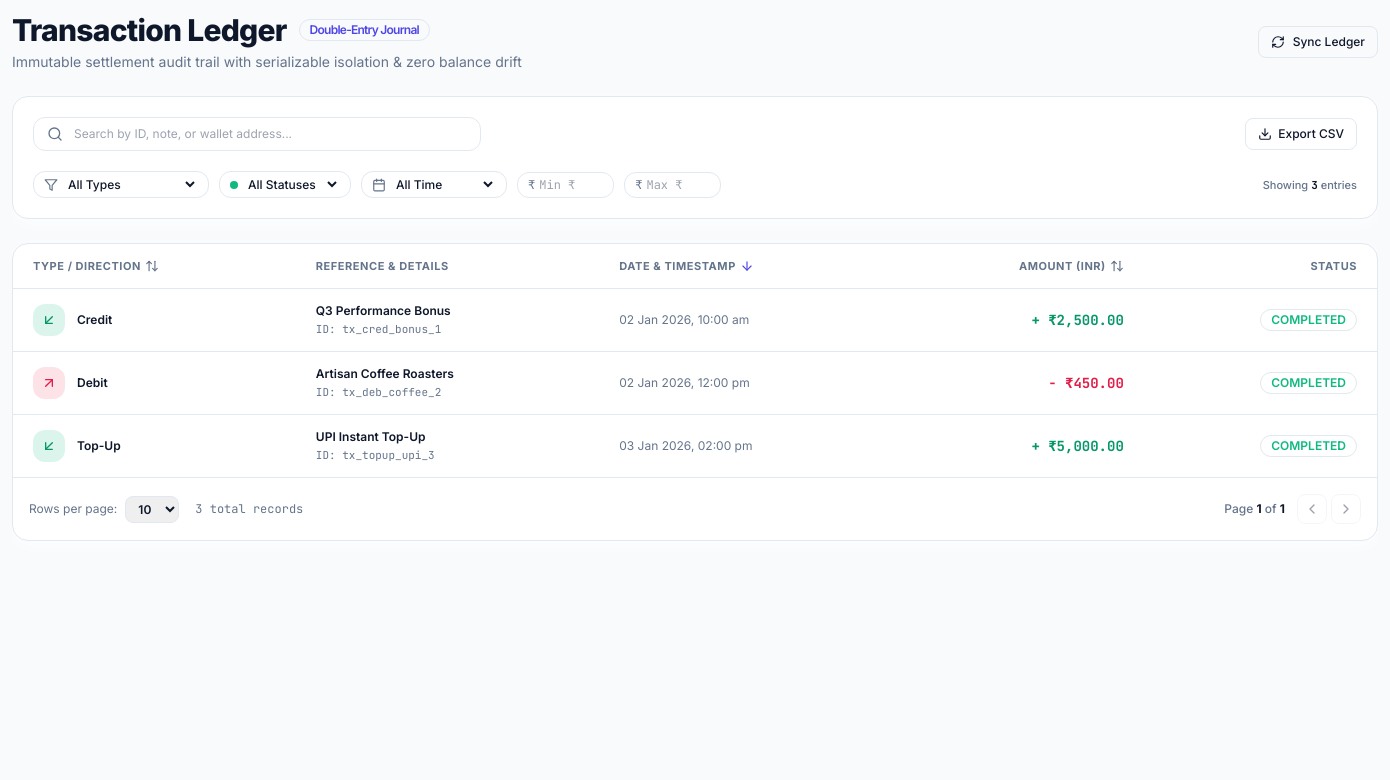
Scenario: TransactionsPage Component › filters transactions when typing into the search input
Expected: the text "Q3 Performance Bonus" is shown, [316,303,451,318]
Type "Coffee" into the field with placeholder "Search by ID, note, or wallet address...".
click(257, 134); type("Coffee")  # box [33,117,481,151]
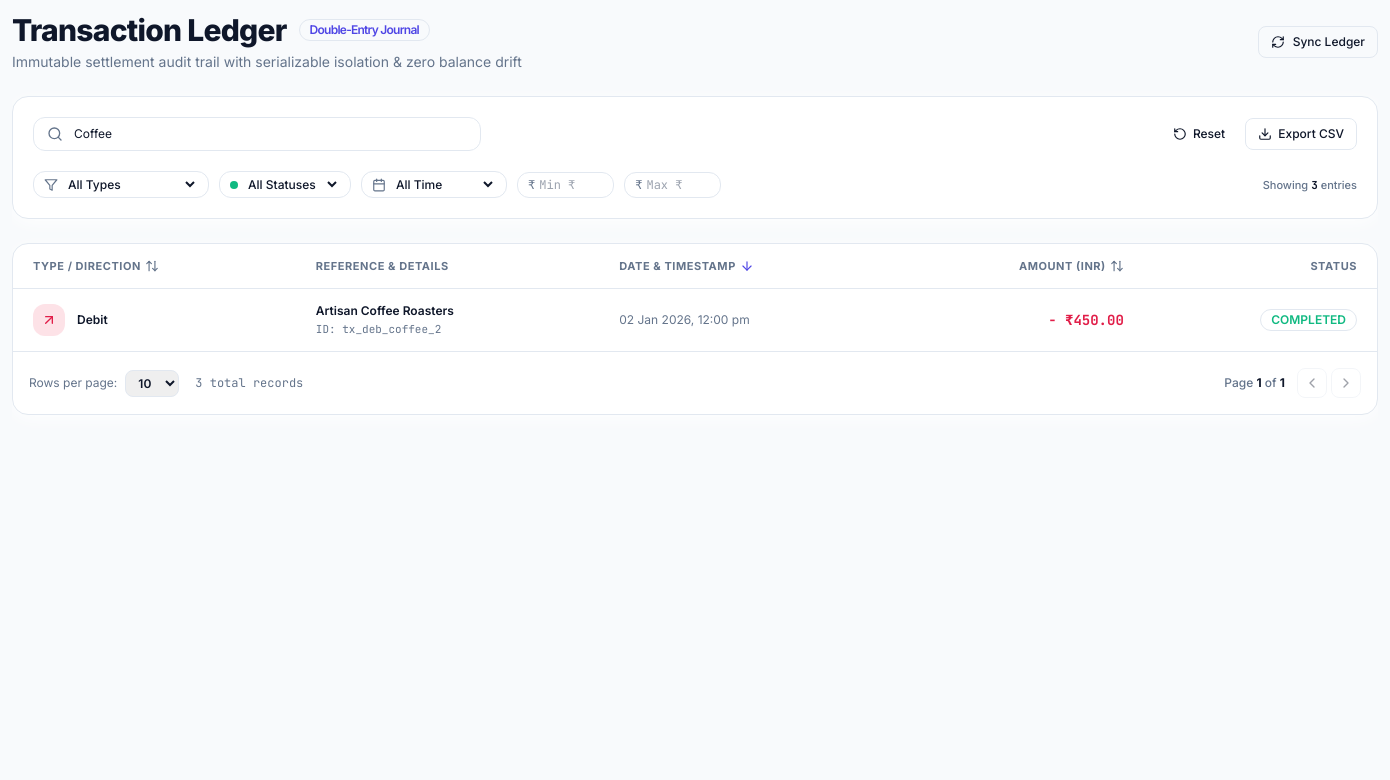
Expected: the text "Artisan Coffee Roasters" is shown, [316,303,454,318]
Expected: the text "Q3 Performance Bonus" is gone
